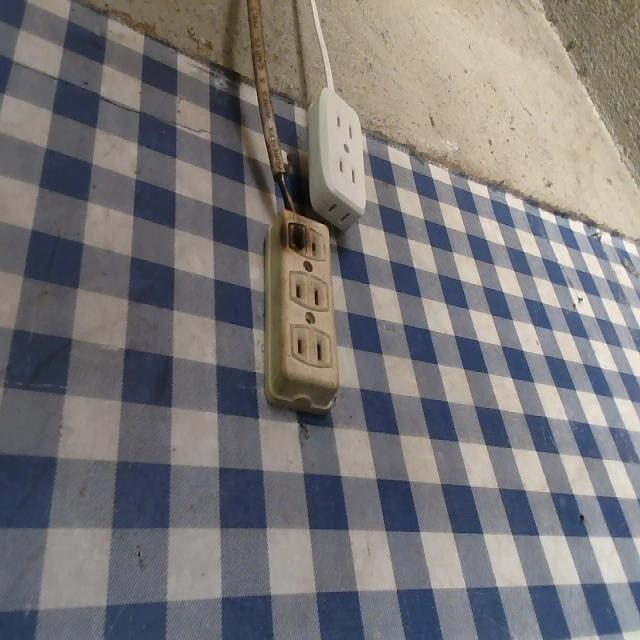-: (283, 214, 314, 262)
